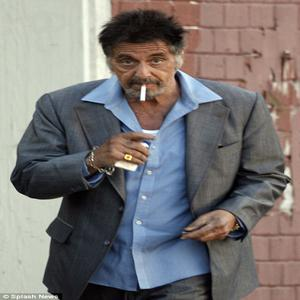cigarette: (140, 82, 148, 106)
